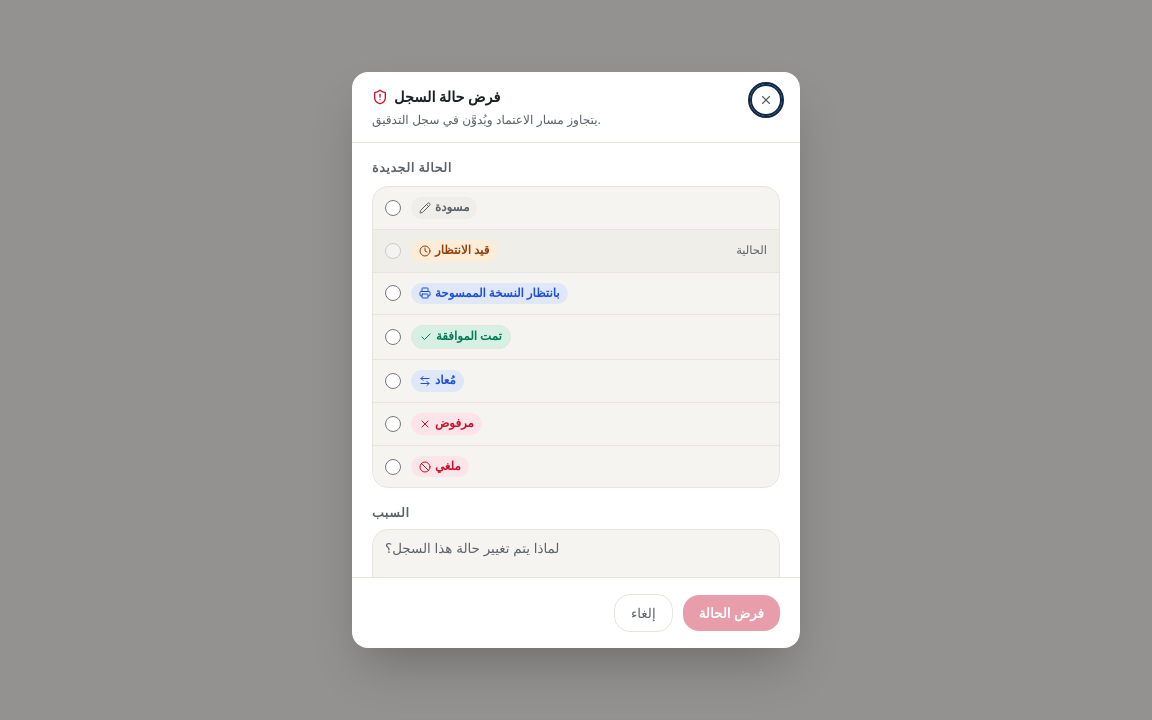
it: RecordStateOverrideDialog › requires a reason before returning or rejecting (mirrors the backend)
The image size is (1152, 720).
Click the radio button labelled "مرفوض".
click(393, 424)  # box left=385, top=416, right=401, bottom=432
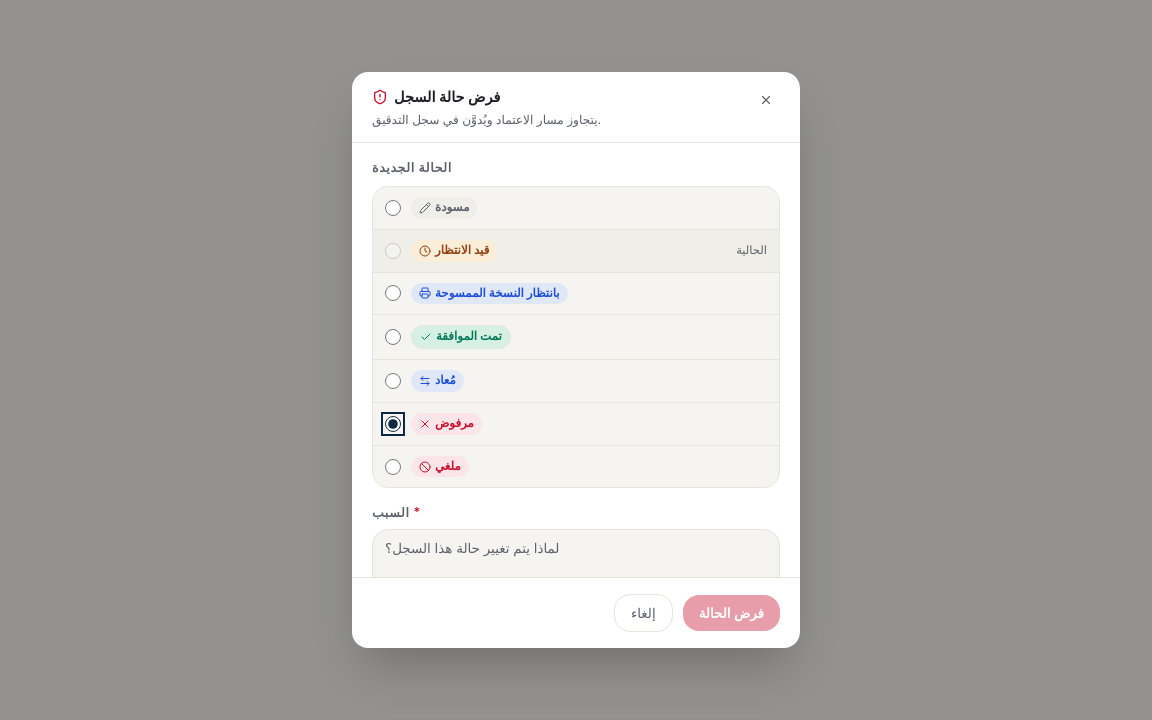
Check: the button with test id "state-override-confirm" is disabled, box left=683, top=595, right=780, bottom=631
Type "مرفوض إدارياً" into the text box labelled "السبب*".
click(576, 568); type("مرفوض إدارياً")  # box left=372, top=529, right=780, bottom=608
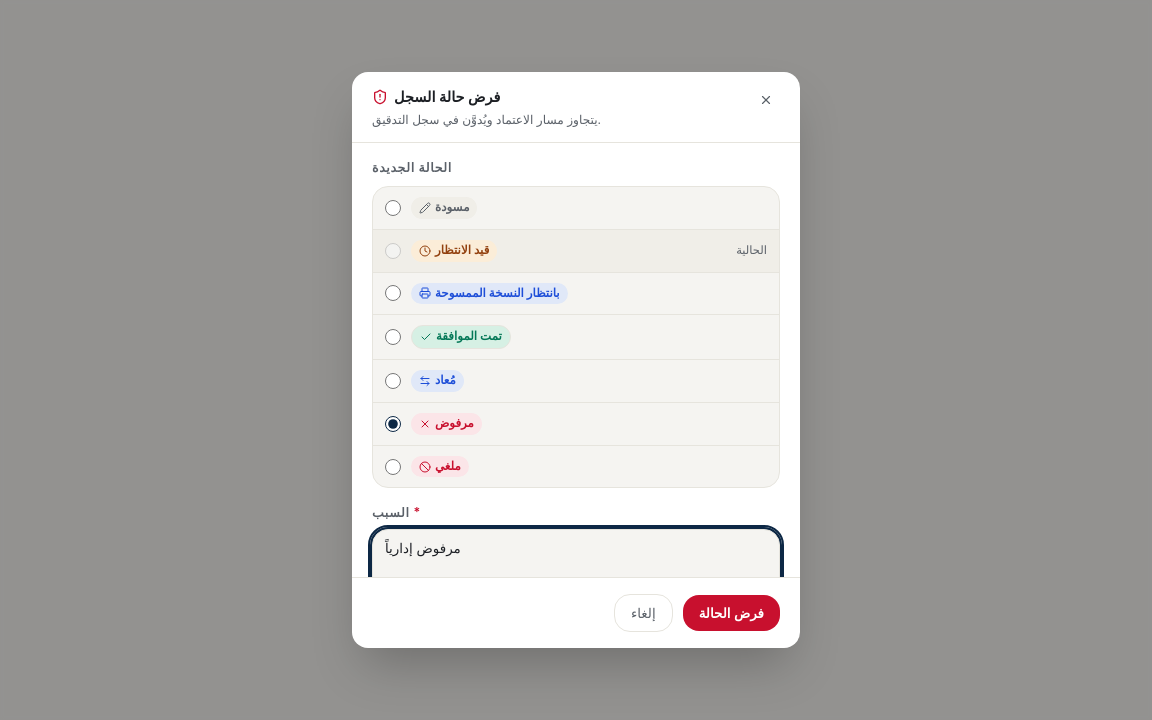
Check: the button with test id "state-override-confirm" is enabled, box left=683, top=595, right=780, bottom=631
